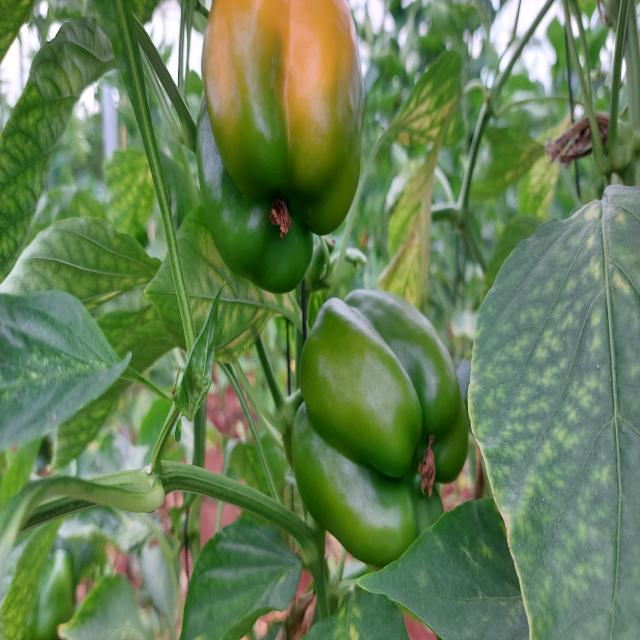Green--Not-ready-to-harvest: (299, 300, 479, 553)
GreenishYellow--Can-be-Harvested: (195, 2, 357, 263)
